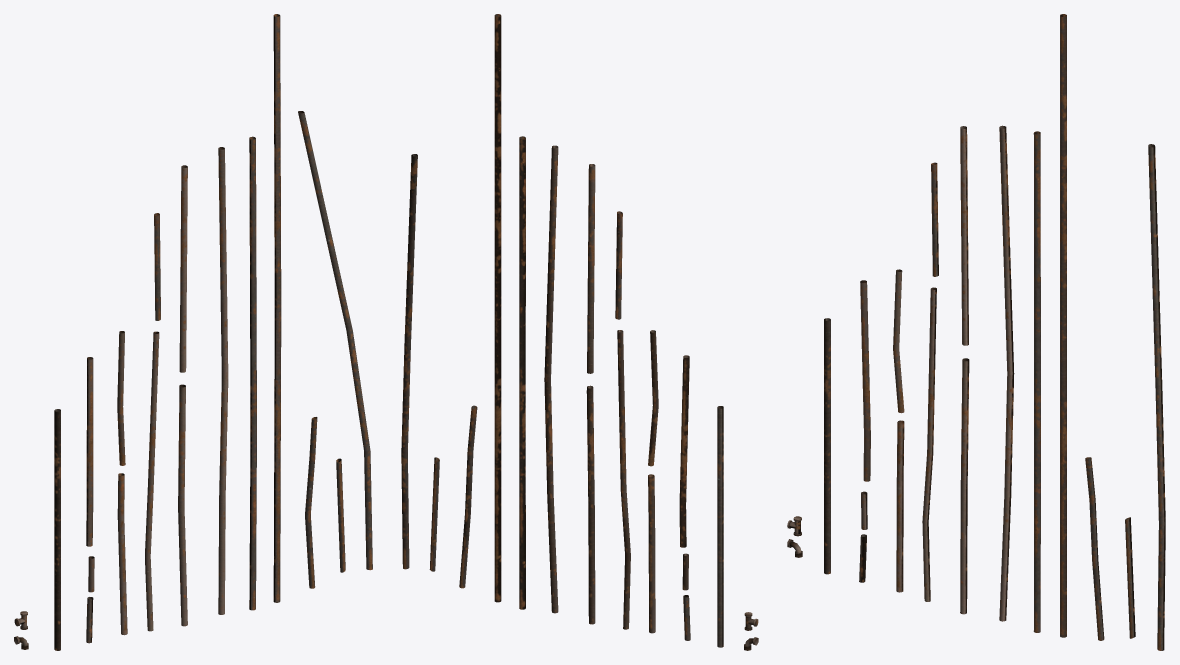
Rendered from WaterPipes.FBX.
The picture shows the model from 3 angles, left to right: view 1: azimuth 30°, elevation 25°; view 2: azimuth 150°, elevation 25°; view 3: azimuth 330°, elevation 25°; orthographic projection. The views are drawn at different scales.
Parts seen in each view (by area): view 1: WaterPipe_04, WaterPipe_06, WaterPipe_03, WaterPipe_01, WaterPipe_09, WaterPipe_02, WaterPipe_17, WaterPipe_07, WaterPipe_13, WaterPipe_10, WaterPipe_12, WaterPipe_05 (+2 smaller); view 2: WaterPipe_04, WaterPipe_03, WaterPipe_06, WaterPipe_01, WaterPipe_09, WaterPipe_02, WaterPipe_17, WaterPipe_07, WaterPipe_13, WaterPipe_12, WaterPipe_10, WaterPipe_05 (+2 smaller); view 3: WaterPipe_04, WaterPipe_01, WaterPipe_03, WaterPipe_06, WaterPipe_09, WaterPipe_02, WaterPipe_17, WaterPipe_07, WaterPipe_13, WaterPipe_10, WaterPipe_12, WaterPipe_05 (+2 smaller).
Boxes of the visible parts, x1,y1,x2,y2 form: WaterPipe_04: (273,14,281,602); WaterPipe_06: (249,136,256,610); WaterPipe_03: (218,147,228,614); WaterPipe_01: (298,111,372,570); WaterPipe_09: (145,331,159,631); WaterPipe_02: (178,384,187,626); WaterPipe_17: (54,409,60,650); WaterPipe_07: (179,165,187,372); WaterPipe_13: (86,357,93,546); WaterPipe_10: (117,473,127,635); WaterPipe_12: (305,417,317,588); WaterPipe_05: (117,331,125,465); WaterPipe_04: (494,14,501,602); WaterPipe_03: (544,145,558,613); WaterPipe_06: (519,136,525,609); WaterPipe_01: (401,154,417,569); WaterPipe_09: (617,330,630,629); WaterPipe_02: (586,385,595,624); WaterPipe_17: (717,406,723,647); WaterPipe_07: (587,164,595,373); WaterPipe_13: (679,355,689,547); WaterPipe_12: (459,405,477,588); WaterPipe_10: (648,474,655,633); WaterPipe_05: (648,330,658,466); WaterPipe_04: (1060,14,1066,637); WaterPipe_01: (1148,144,1165,650); WaterPipe_03: (999,125,1014,621); WaterPipe_06: (1033,131,1040,632); WaterPipe_09: (922,287,936,601); WaterPipe_02: (960,358,969,614); WaterPipe_17: (824,318,830,574); WaterPipe_07: (960,126,968,345); WaterPipe_13: (860,280,870,481); WaterPipe_10: (896,420,904,592); WaterPipe_12: (1085,457,1104,640); WaterPipe_05: (893,269,904,413).
Size of the model in its own units: 173 by 273 by 33.61.
